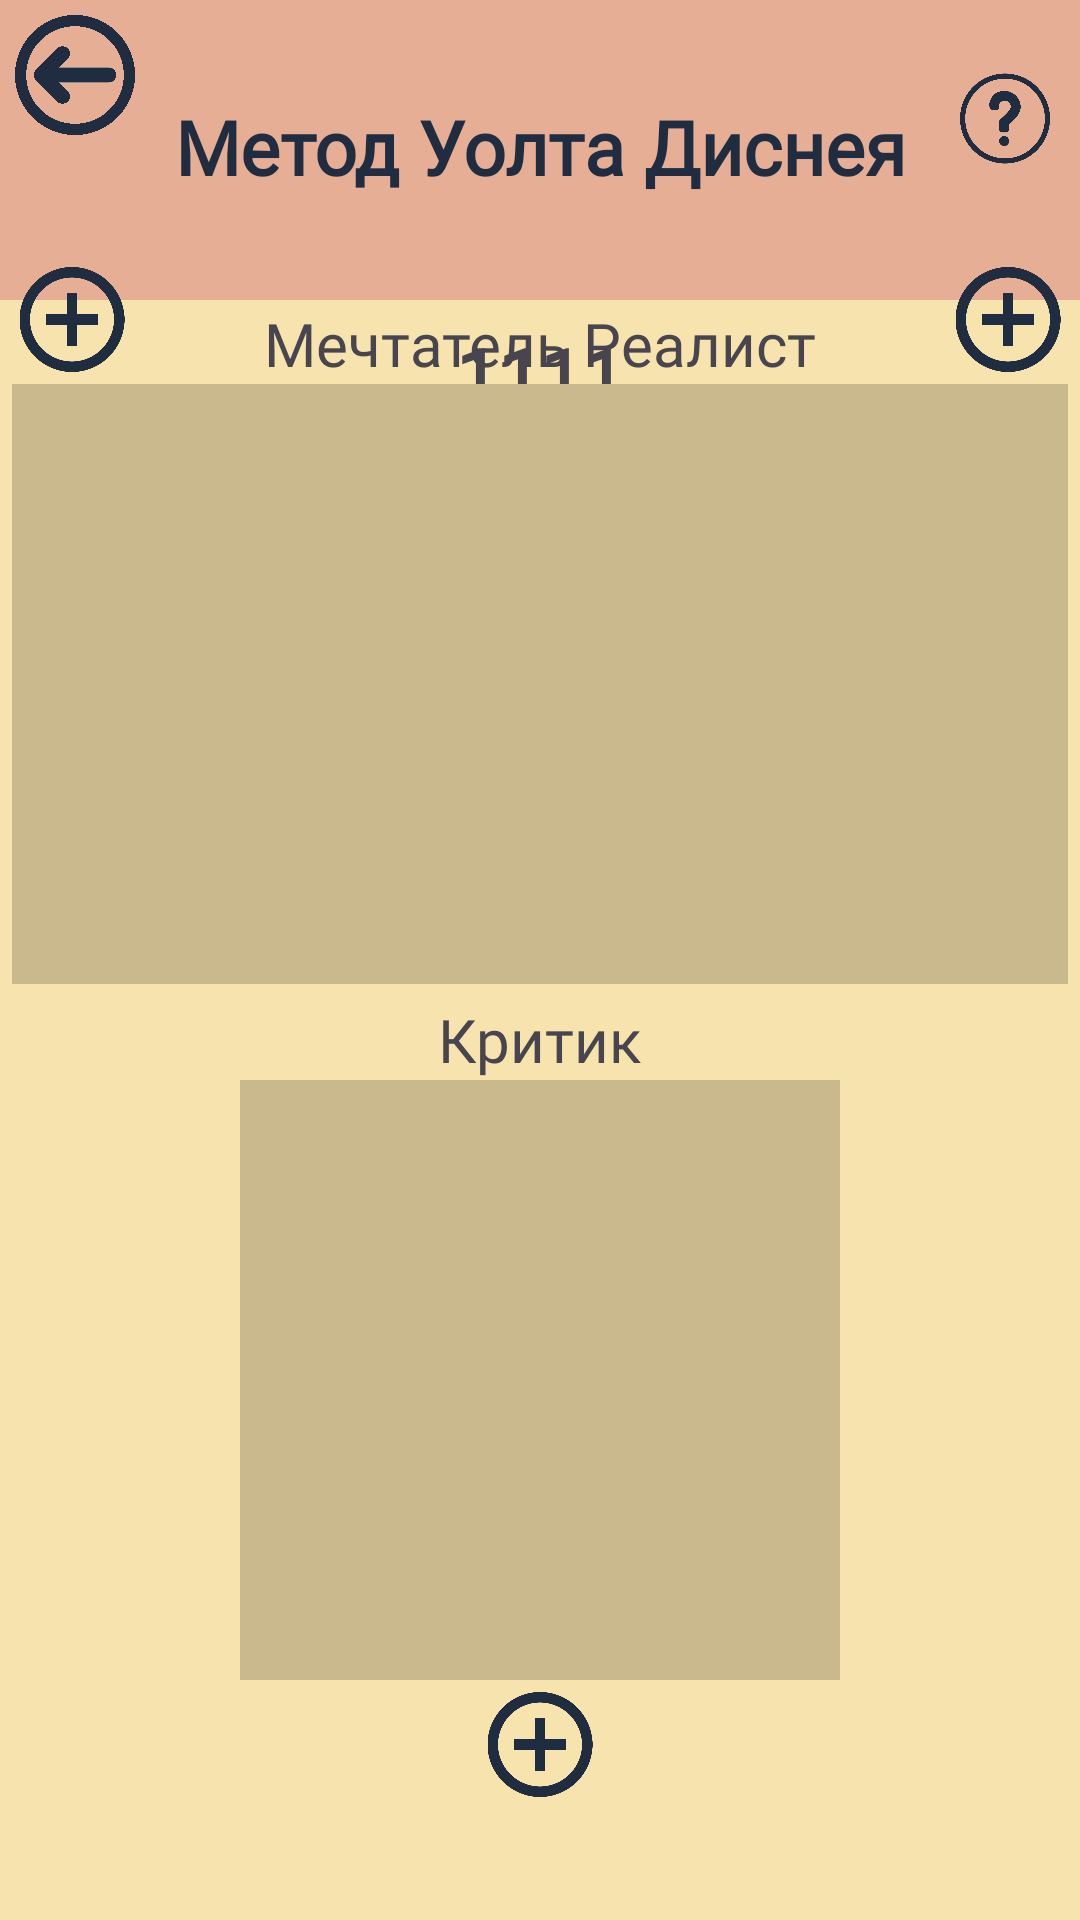

Icons on this 1080×1920 Android screen, each with the point to tap as [x,y]:
addbutton: [72,319], [1008,319], [540,1744]
backbutton: [75,75]
question: [1005,118]
